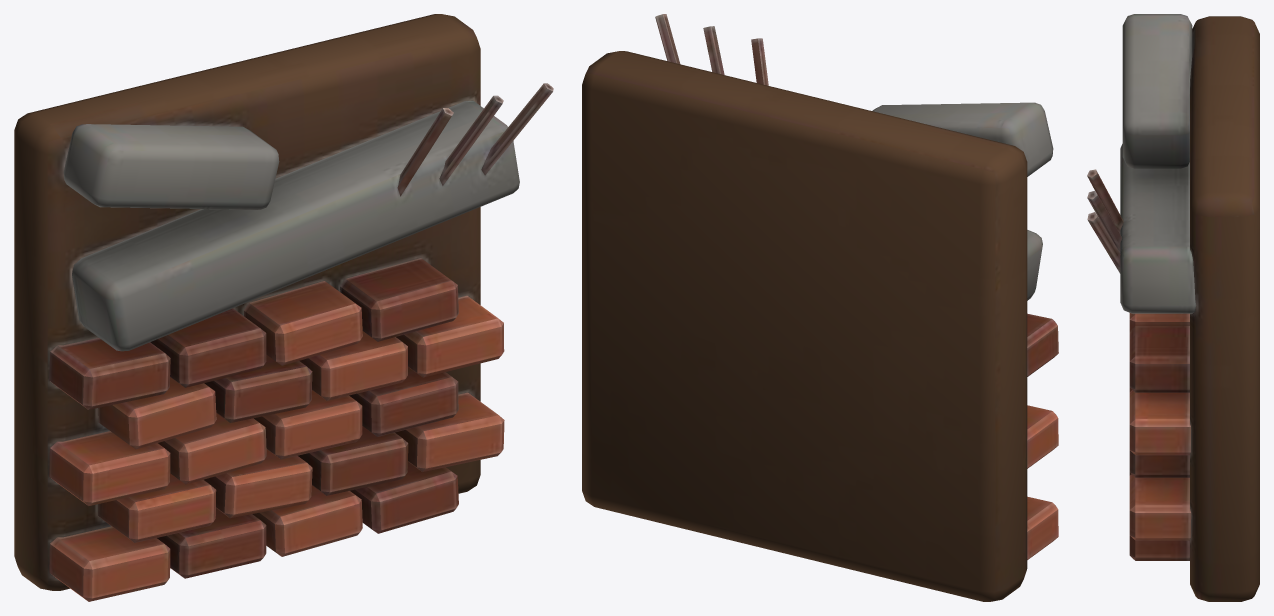
The model's file is tile_rock_c.glb.
3 views of the same model, side by side, from view 1: azimuth 30°, elevation 25°; view 2: azimuth 150°, elevation 25°; view 3: azimuth 270°, elevation 25° (orthographic). The views are drawn at different scales.
Parts seen in each view (by area): view 1: tile_rock_c; view 2: tile_rock_c; view 3: tile_rock_c.
Part boxes in pixels (x1=…): tile_rock_c: x1=14, y1=14, x2=553, y2=601; tile_rock_c: x1=582, y1=14, x2=1058, y2=601; tile_rock_c: x1=1087, y1=14, x2=1259, y2=601.
Size of the model in its own units: 1.98 by 1.98 by 0.7429.
Materials: 1 (1 with a texture image).
